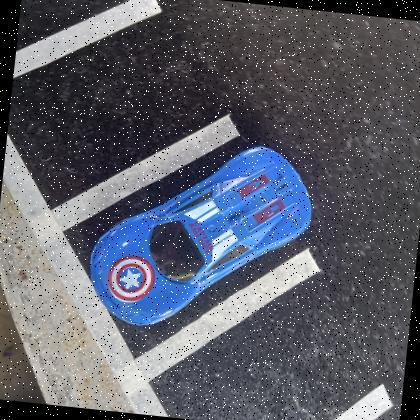Car: (88, 145, 312, 326)
